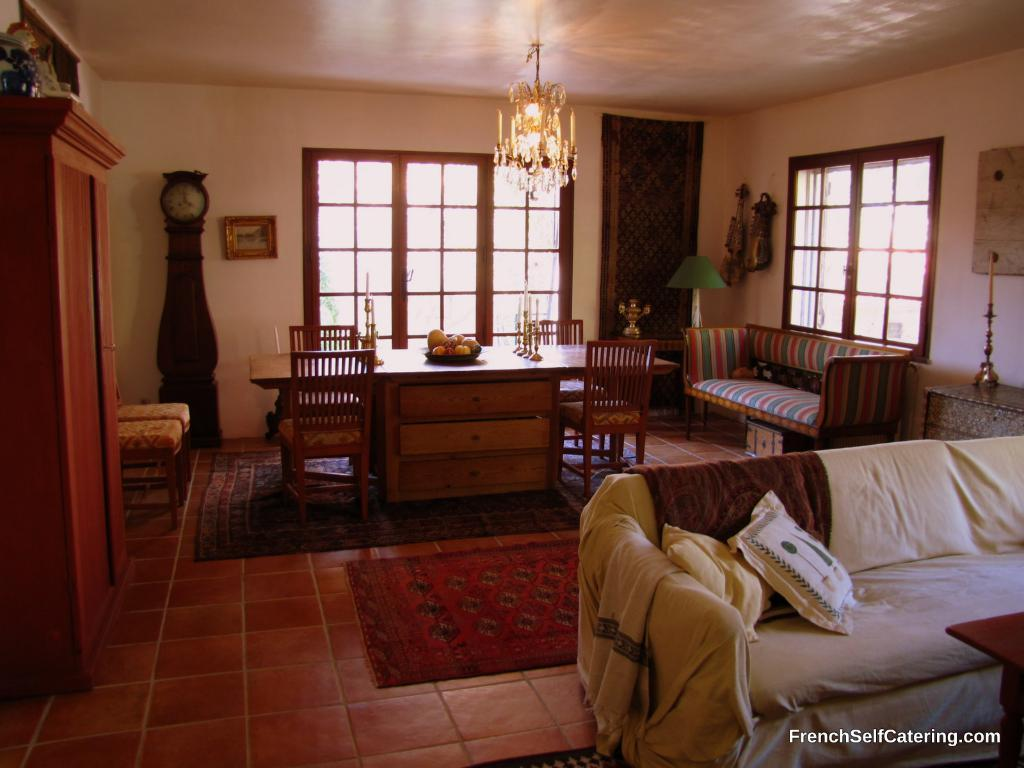cabinet_door: (398, 380, 560, 421), (398, 413, 554, 451), (402, 458, 556, 490)
